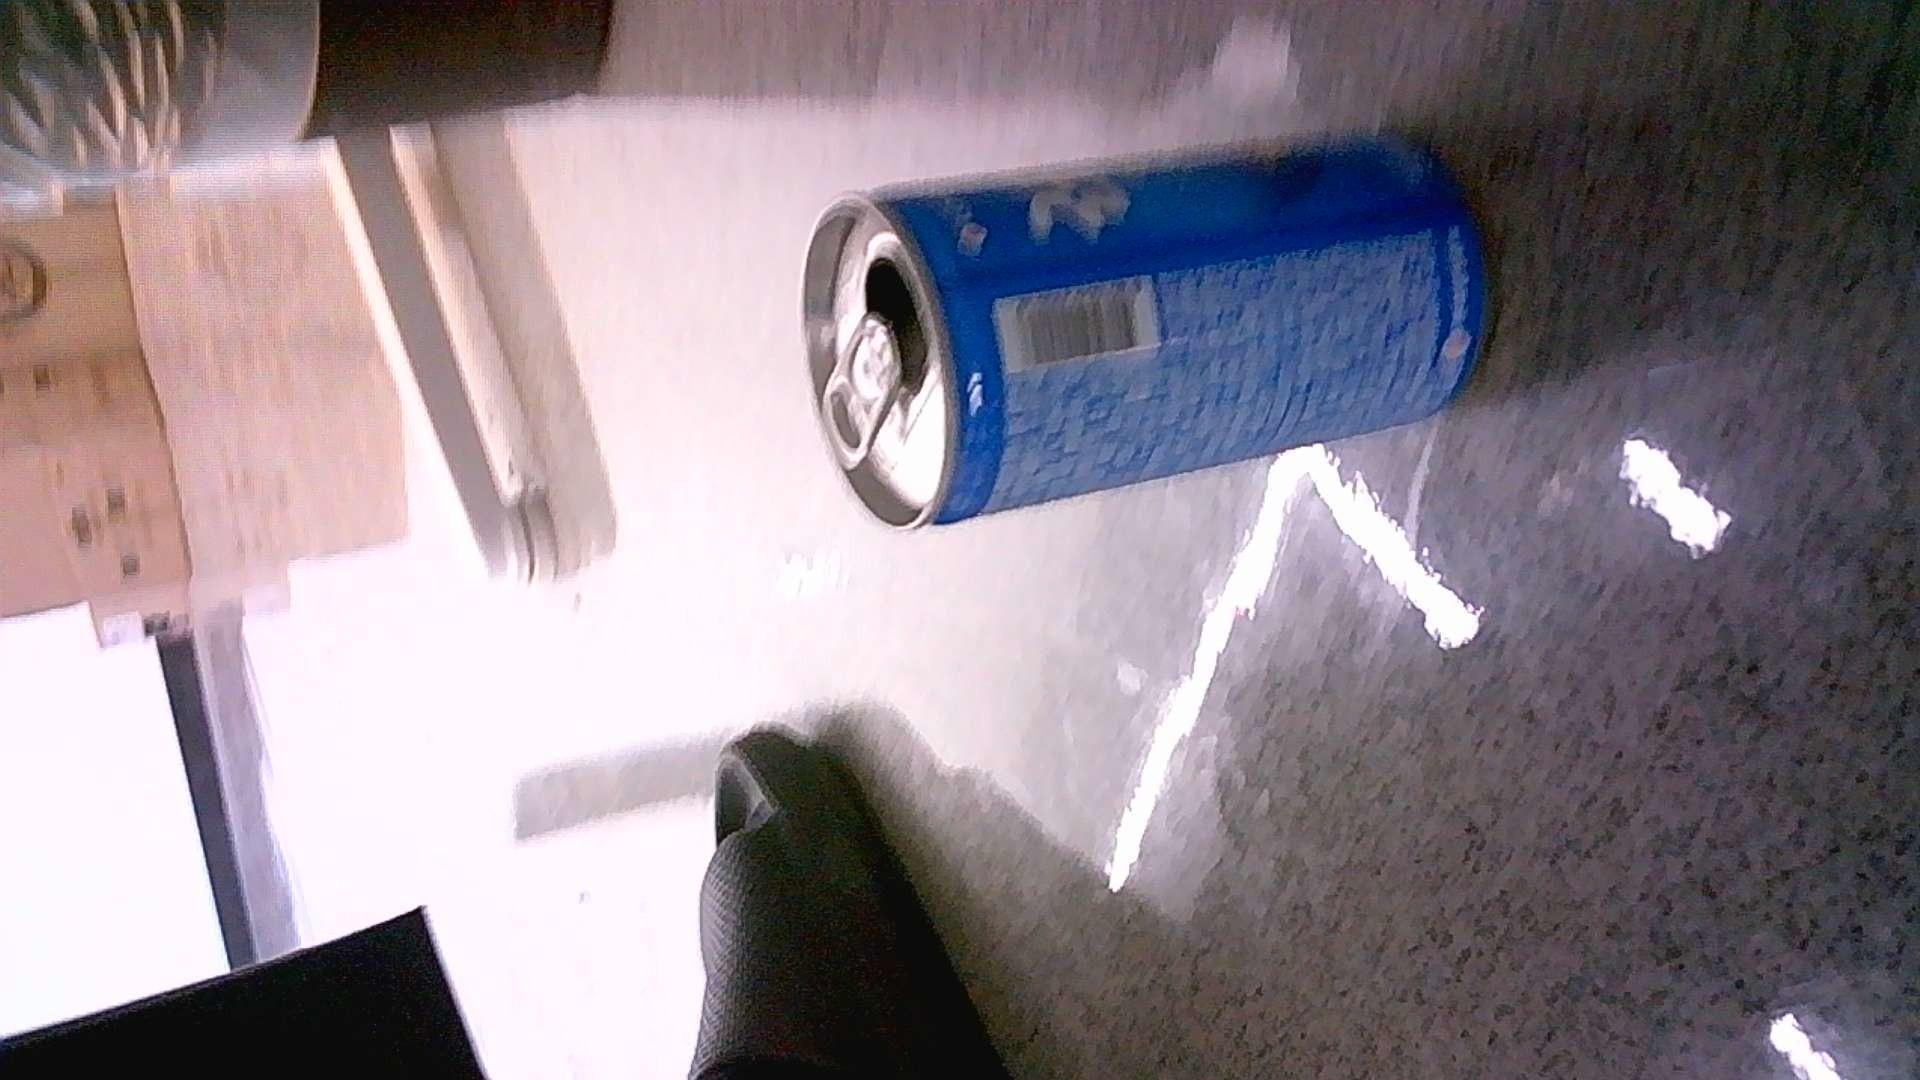letsbe: (799, 131, 1489, 533)
